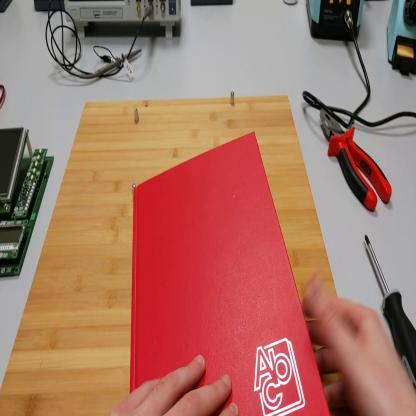hand: (302, 279, 416, 416), (112, 354, 243, 415)
low voltage board: (1, 126, 56, 276)
oscilloscope: (64, 1, 184, 38)
oscilloscope probe tip: (83, 51, 142, 81)
pliers: (321, 109, 395, 217)
register: (131, 133, 333, 416)
screwdriver-: (365, 237, 416, 387)
socket: (35, 2, 64, 15), (2, 1, 13, 12)
welder base: (386, 2, 416, 80)
welder station: (308, 1, 363, 45)
working area: (2, 97, 339, 414)
